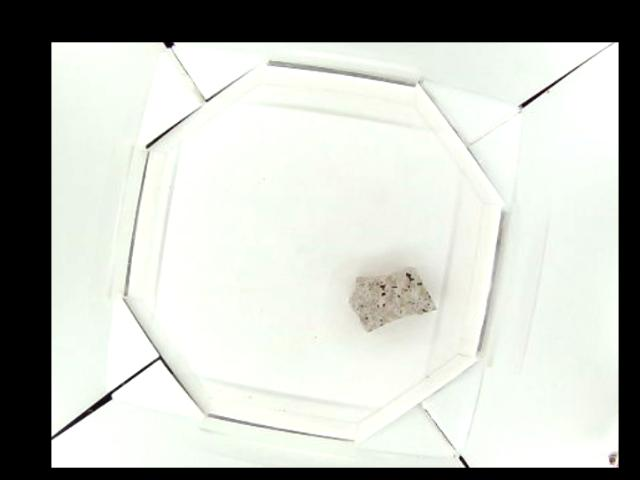China: (346, 266, 439, 331)
